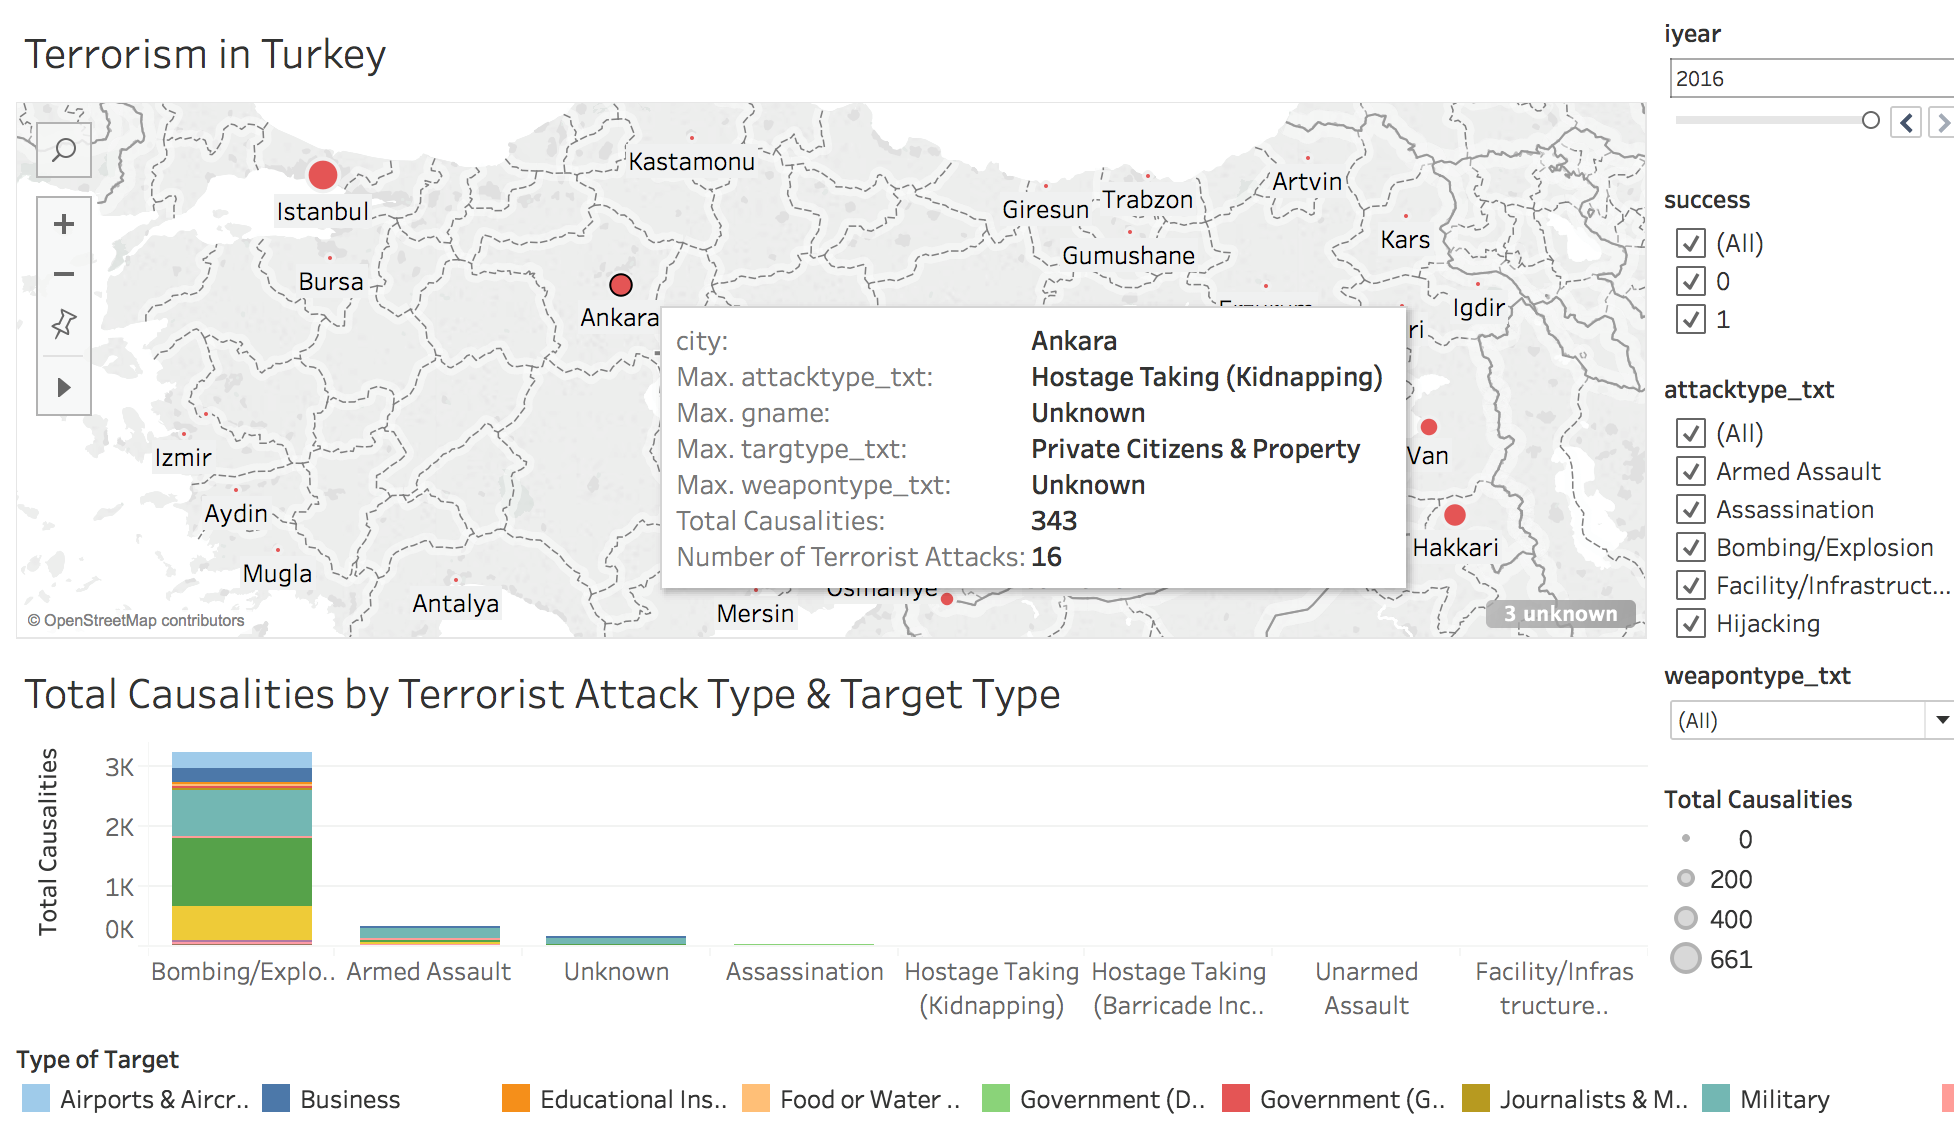

This screenshot's page, from the dashboard's own definition file:
{"tool":"tableau","page":{"name":"Dashboard 1","canvas":[1000,800],"ordinal":0},"visuals":[{"type":"worksheet","title":"Sheet 1","mark":"Automatic","rows":["latitude"],"cols":["longitude"],"box":[8,8,824,784]},{"type":"filter","title":"Sheet 1","param":"[federated.0r33ruc1mmh9n51cb5izi0kvz6ea].[none:iyear:ok]","box":[832,8,160,75]},{"type":"filter","title":"Sheet 1","param":"[federated.0r33ruc1mmh9n51cb5izi0kvz6ea].[none:success:ok]","box":[832,83,160,89]},{"type":"filter","title":"Sheet 1","param":"[federated.0r33ruc1mmh9n51cb5izi0kvz6ea].[none:attacktype_txt:nk]","box":[832,172,160,52]},{"type":"legend","title":"Sheet 1","param":"[federated.0r33ruc1mmh9n51cb5izi0kvz6ea].[none:attacktype_txt:nk]","box":[832,224,160,126]},{"type":"legend","title":"Sheet 1","param":"[federated.0r33ruc1mmh9n51cb5izi0kvz6ea].[sum:Calculation_5759541039107858432:qk","box":[832,350,160,166]}]}

Visuals, with their boxes on the page's 1000x800 design canvas (x1, y1, x2, y2). These are canvas units, not pixel positions in the 1954x1130 screenshot, which may show the page scaled, cropped or inside an application window:
"Sheet 1" worksheet: left=8, top=8, right=832, bottom=792
"Sheet 1" filter: left=832, top=8, right=992, bottom=83
"Sheet 1" filter: left=832, top=83, right=992, bottom=172
"Sheet 1" filter: left=832, top=172, right=992, bottom=224
"Sheet 1" legend: left=832, top=224, right=992, bottom=350
"Sheet 1" legend: left=832, top=350, right=992, bottom=516
